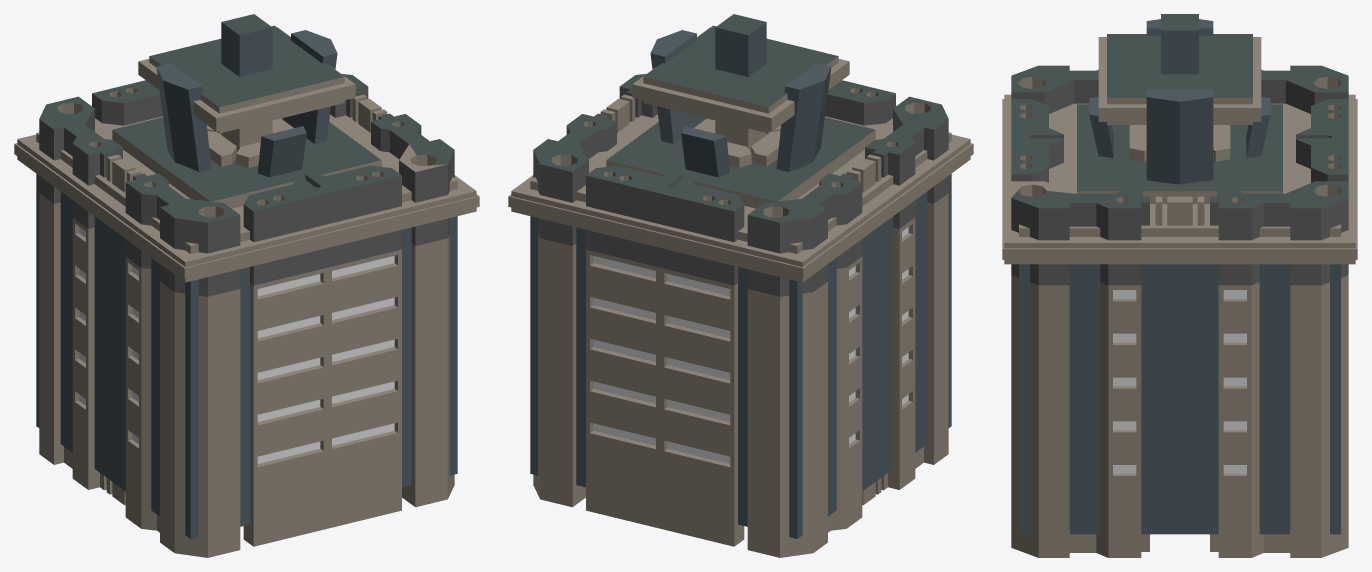
File: building_54.fbx
3 renders of one model, left to right at view 1: azimuth 30°, elevation 25°; view 2: azimuth 150°, elevation 25°; view 3: azimuth 270°, elevation 25°, orthographic. The views are drawn at different scales.
Parts seen in each view (by area): view 1: building_54; view 2: building_54; view 3: building_54.
Boxes of the visible parts, x1,y1,x2,y2 form: building_54: [14, 14, 479, 557]; building_54: [508, 14, 973, 557]; building_54: [1002, 14, 1357, 557].
Bounding box in the file's own units: 843 × 1214 × 843.
